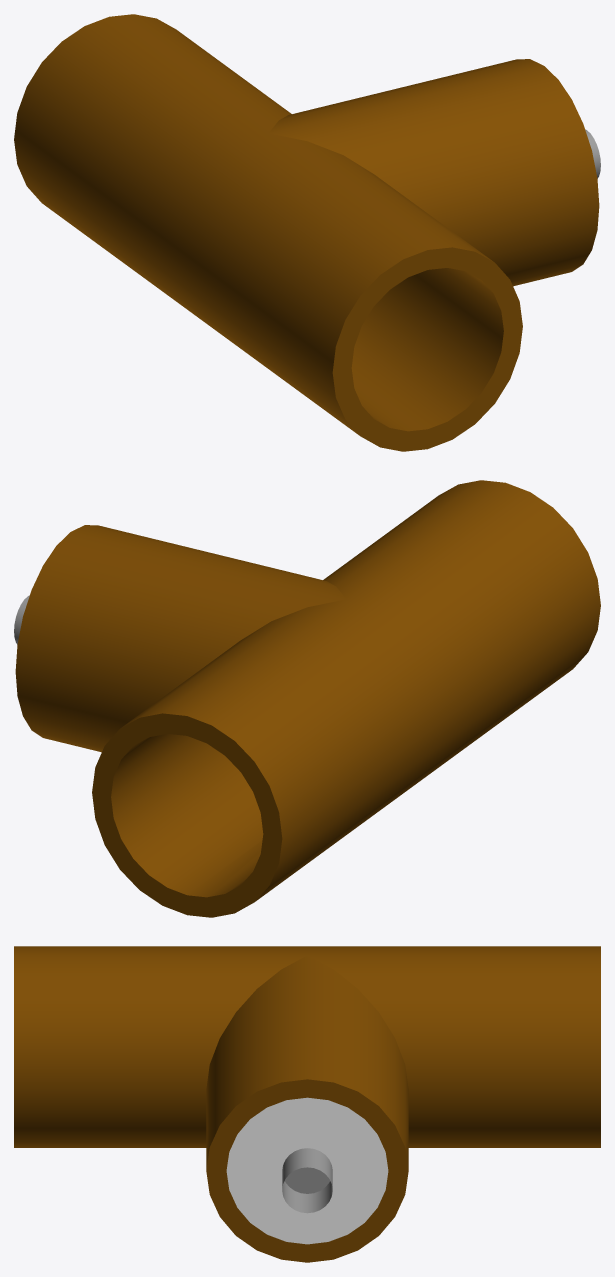
File: Lever_pipe_brass.dae
3 views of the same model, one above another, from view 1: azimuth 30°, elevation 25°; view 2: azimuth 150°, elevation 25°; view 3: azimuth 270°, elevation 25° (orthographic). The views are drawn at different scales.
Parts seen in each view (by area): view 1: pipe (×2); view 2: pipe (×2); view 3: pipe (×2), lever_pipe (×2), axis.
Boxes of the visible parts, x1,y1,x2,y2 form: pipe (×2): (14,14,599,451); pipe (×2): (15,480,600,917); pipe (×2): (14,946,600,1262); lever_pipe (×2): (226,1097,388,1244); axis: (282,1148,332,1213).
Size of the model in its own units: 3.43 by 4.57 by 1.57.
